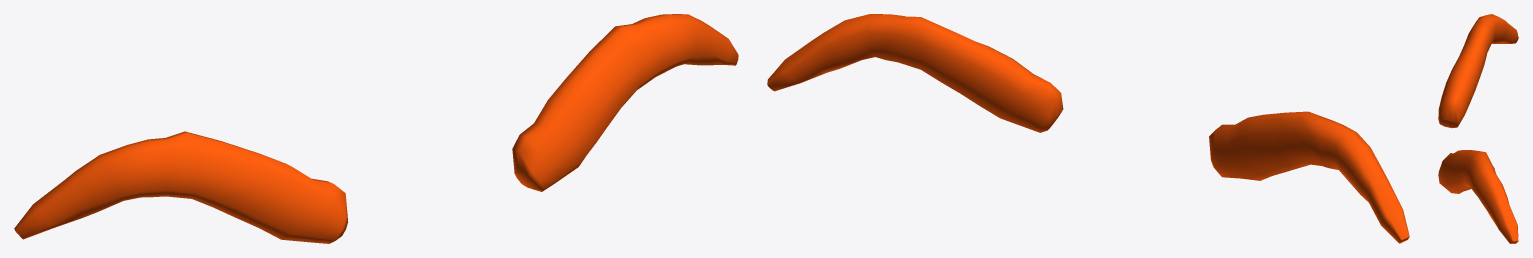
File: Eyebrows_19_06.fbx
3 views of the same model, side by side, from view 1: azimuth 30°, elevation 25°; view 2: azimuth 150°, elevation 25°; view 3: azimuth 270°, elevation 25° (orthographic). The views are drawn at different scales.
Parts seen in each view (by area): view 1: Eyebrows_19_06; view 2: Eyebrows_19_06; view 3: Eyebrows_19_06.
Part boxes in pixels (left/top/right/bottom): Eyebrows_19_06: left=14, top=14, right=738, bottom=243; Eyebrows_19_06: left=767, top=14, right=1409, bottom=243; Eyebrows_19_06: left=1438, top=14, right=1518, bottom=243.
Size of the model in its own units: 18.29 by 2.86 by 3.02.
